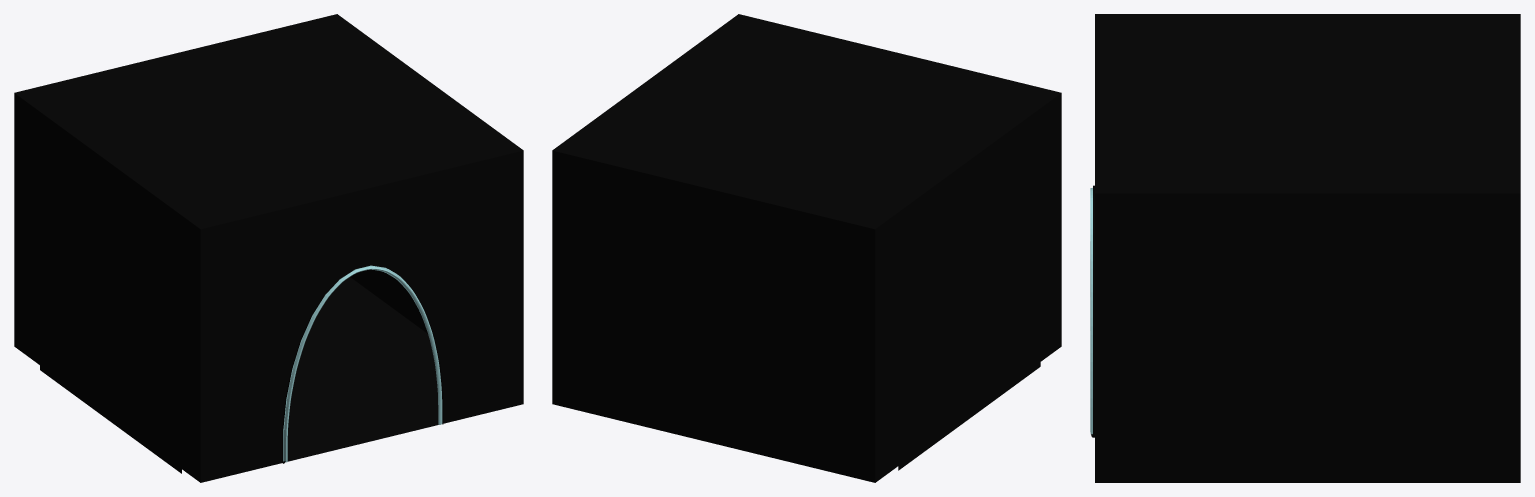
The model's file is hijackingfuture.glb.
3 renders of one model, left to right at view 1: azimuth 30°, elevation 25°; view 2: azimuth 150°, elevation 25°; view 3: azimuth 270°, elevation 25°, orthographic. The views are drawn at different scales.
Parts seen in each view (by area): view 1: clip, clip.002, Videotargets, clip.003; view 2: clip, clip.003; view 3: clip, clip.002.
Boxes of the visible parts, <box> form: clip: <box>14,14,523,482</box>; clip.002: <box>283,265,442,462</box>; Videotargets: <box>353,268,408,314</box>; clip.003: <box>40,365,181,473</box>; clip: <box>552,14,1061,482</box>; clip.003: <box>898,362,1040,470</box>; clip: <box>1091,14,1520,482</box>; clip.002: <box>1090,188,1092,434</box>.
Bounding box in the file's own units: 3.81 × 2.93 × 3.85.
4 materials, 3 textured.
